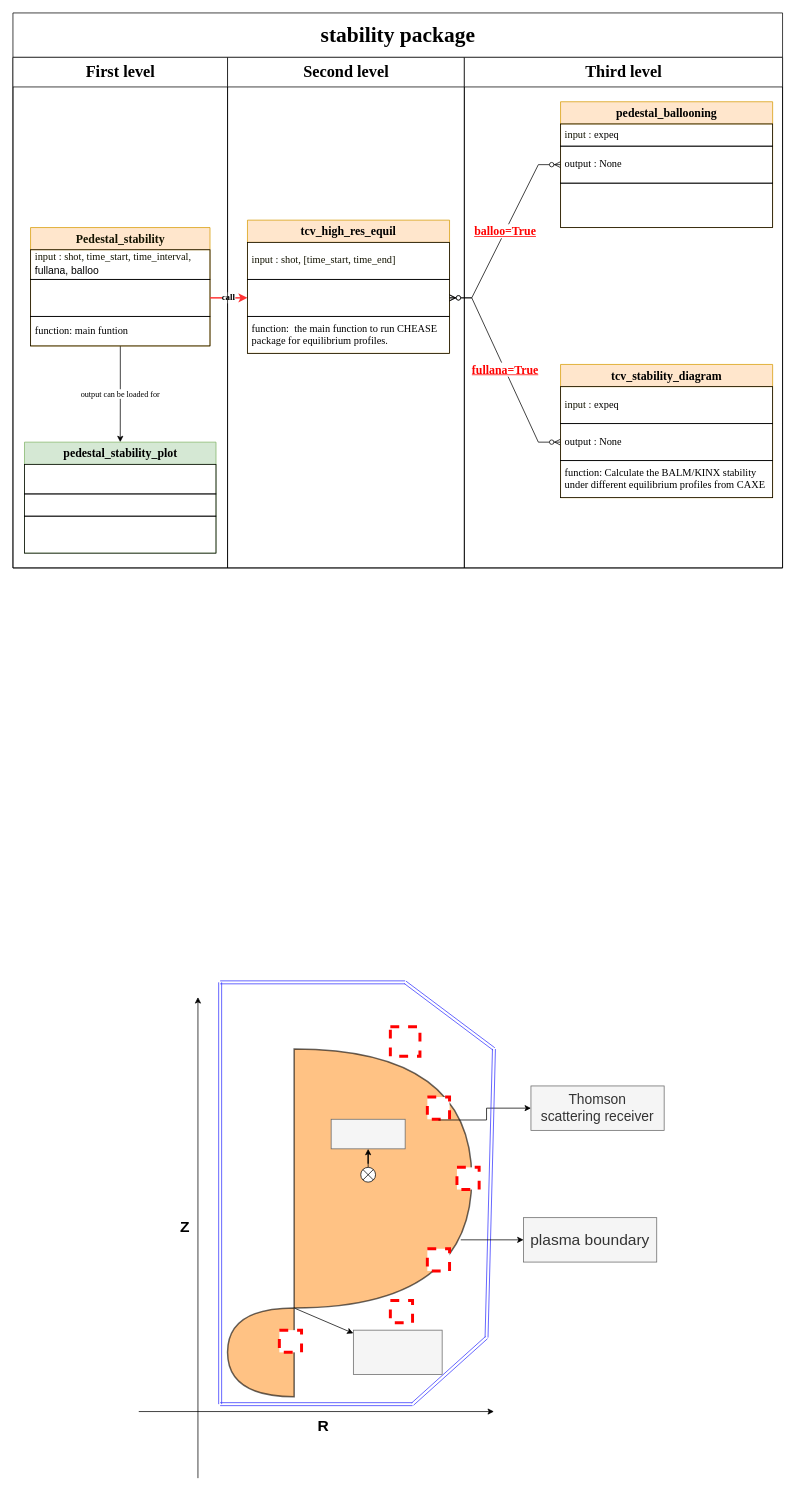
Some shapes in this 796 by 1497 pixel diagram are drawn without their labels. The centre of each missing label's shape, as x and y in pixels:
function: calculate infinity-ballooning mode stability: the point at 666,205
function: get the stability analyse picture: the point at 120,534
input : shot, time_start: the point at 120,479
output : CHEASE_out, profiles, shot_info, workdir: the point at 348,297
output : the CHEASE package's output: the point at 120,297
output: the pictures for stability analyse: the point at 120,504
plasma center: the point at 367,1134
X-point: the point at 397,1352
